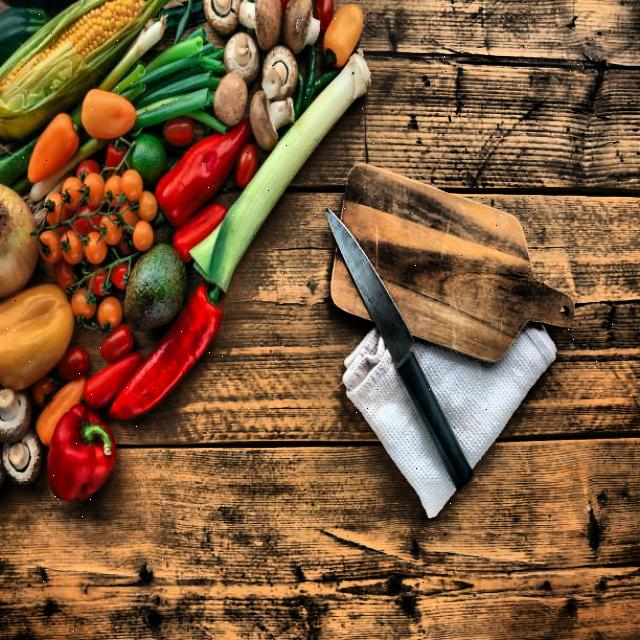knife: (324, 196, 481, 498)
